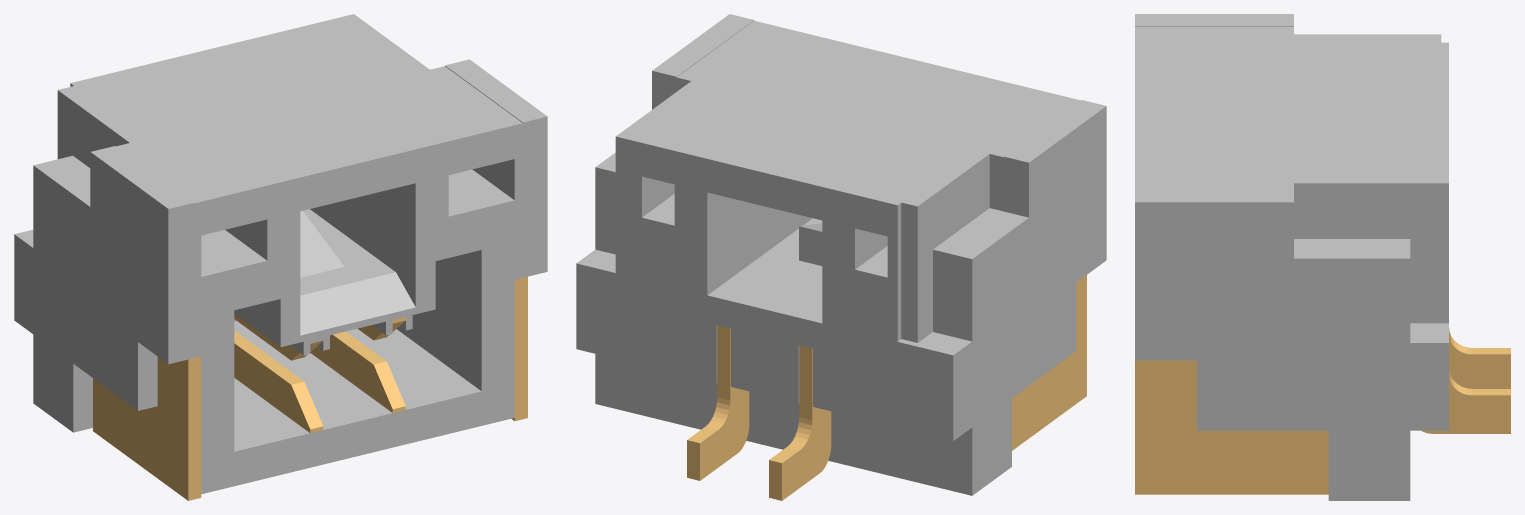
File: SM02B-GHS-TB.obj
3 views of the same model, side by side, from view 1: azimuth 30°, elevation 25°; view 2: azimuth 150°, elevation 25°; view 3: azimuth 270°, elevation 25° (orthographic). The views are drawn at different scales.
Visible parts, largest first — view 1: SM02B-GHS-TB; view 2: SM02B-GHS-TB; view 3: SM02B-GHS-TB.
Part boxes in pixels (<box>): SM02B-GHS-TB: <box>14,14,547,500</box>; SM02B-GHS-TB: <box>576,14,1106,500</box>; SM02B-GHS-TB: <box>1135,14,1510,500</box>.
Bounding box in the file's own units: 0.0175 × 0.0131 × 0.0147.
